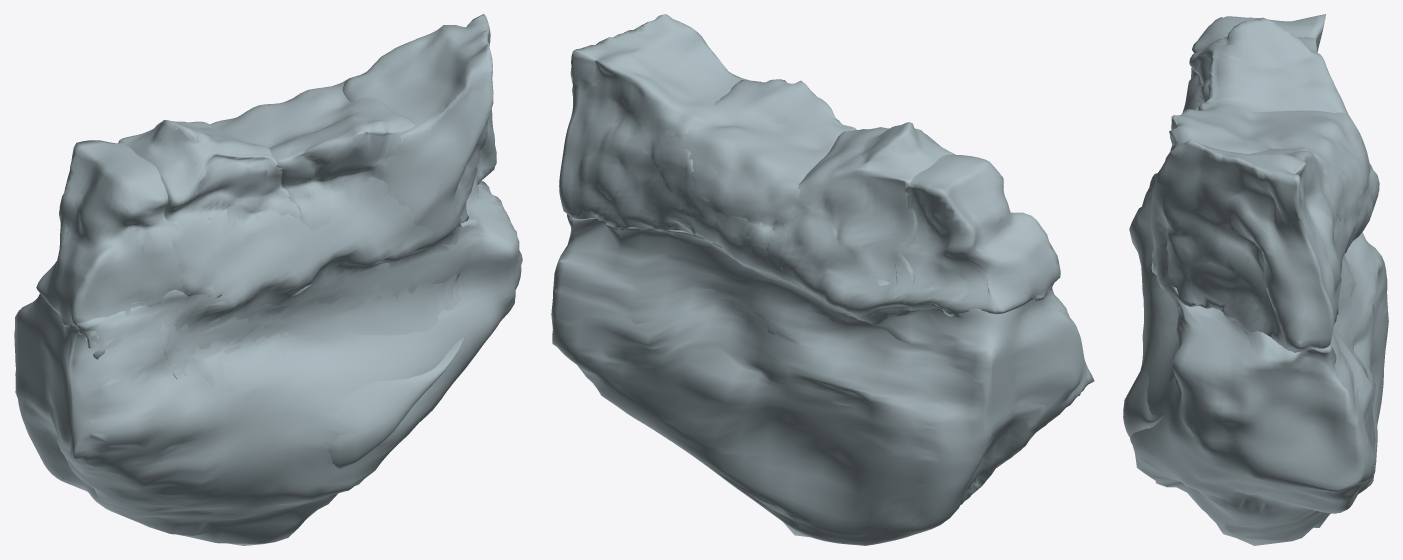
The model's file is iceberg.glb.
3 views of the same model, side by side, from view 1: azimuth 30°, elevation 25°; view 2: azimuth 150°, elevation 25°; view 3: azimuth 270°, elevation 25° (orthographic). The views are drawn at different scales.
Parts seen in each view (by area): view 1: Cube.001_3; view 2: Cube.001_3; view 3: Cube.001_3.
Part boxes in pixels (box(x1,y1,x2,y2)): Cube.001_3: box(14, 14, 522, 545); Cube.001_3: box(551, 14, 1094, 545); Cube.001_3: box(1123, 14, 1388, 545).
Size of the model in its own units: 8.38 by 7.61 by 3.64.
